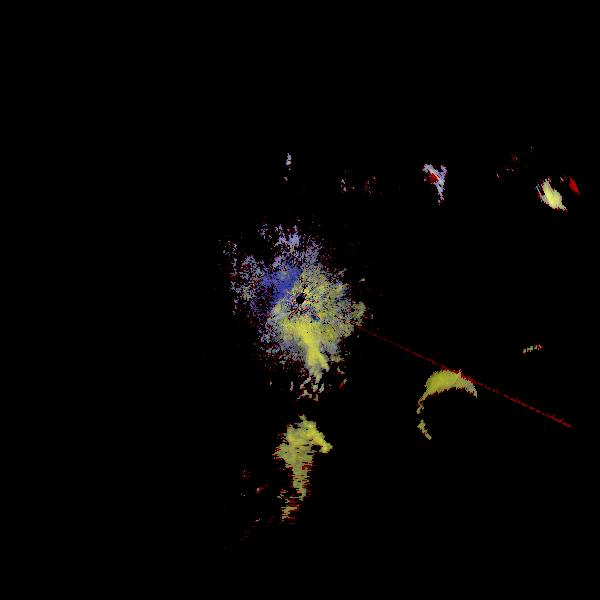roost: (402, 364, 507, 469), (251, 313, 332, 394), (392, 161, 470, 239), (506, 337, 572, 403)
